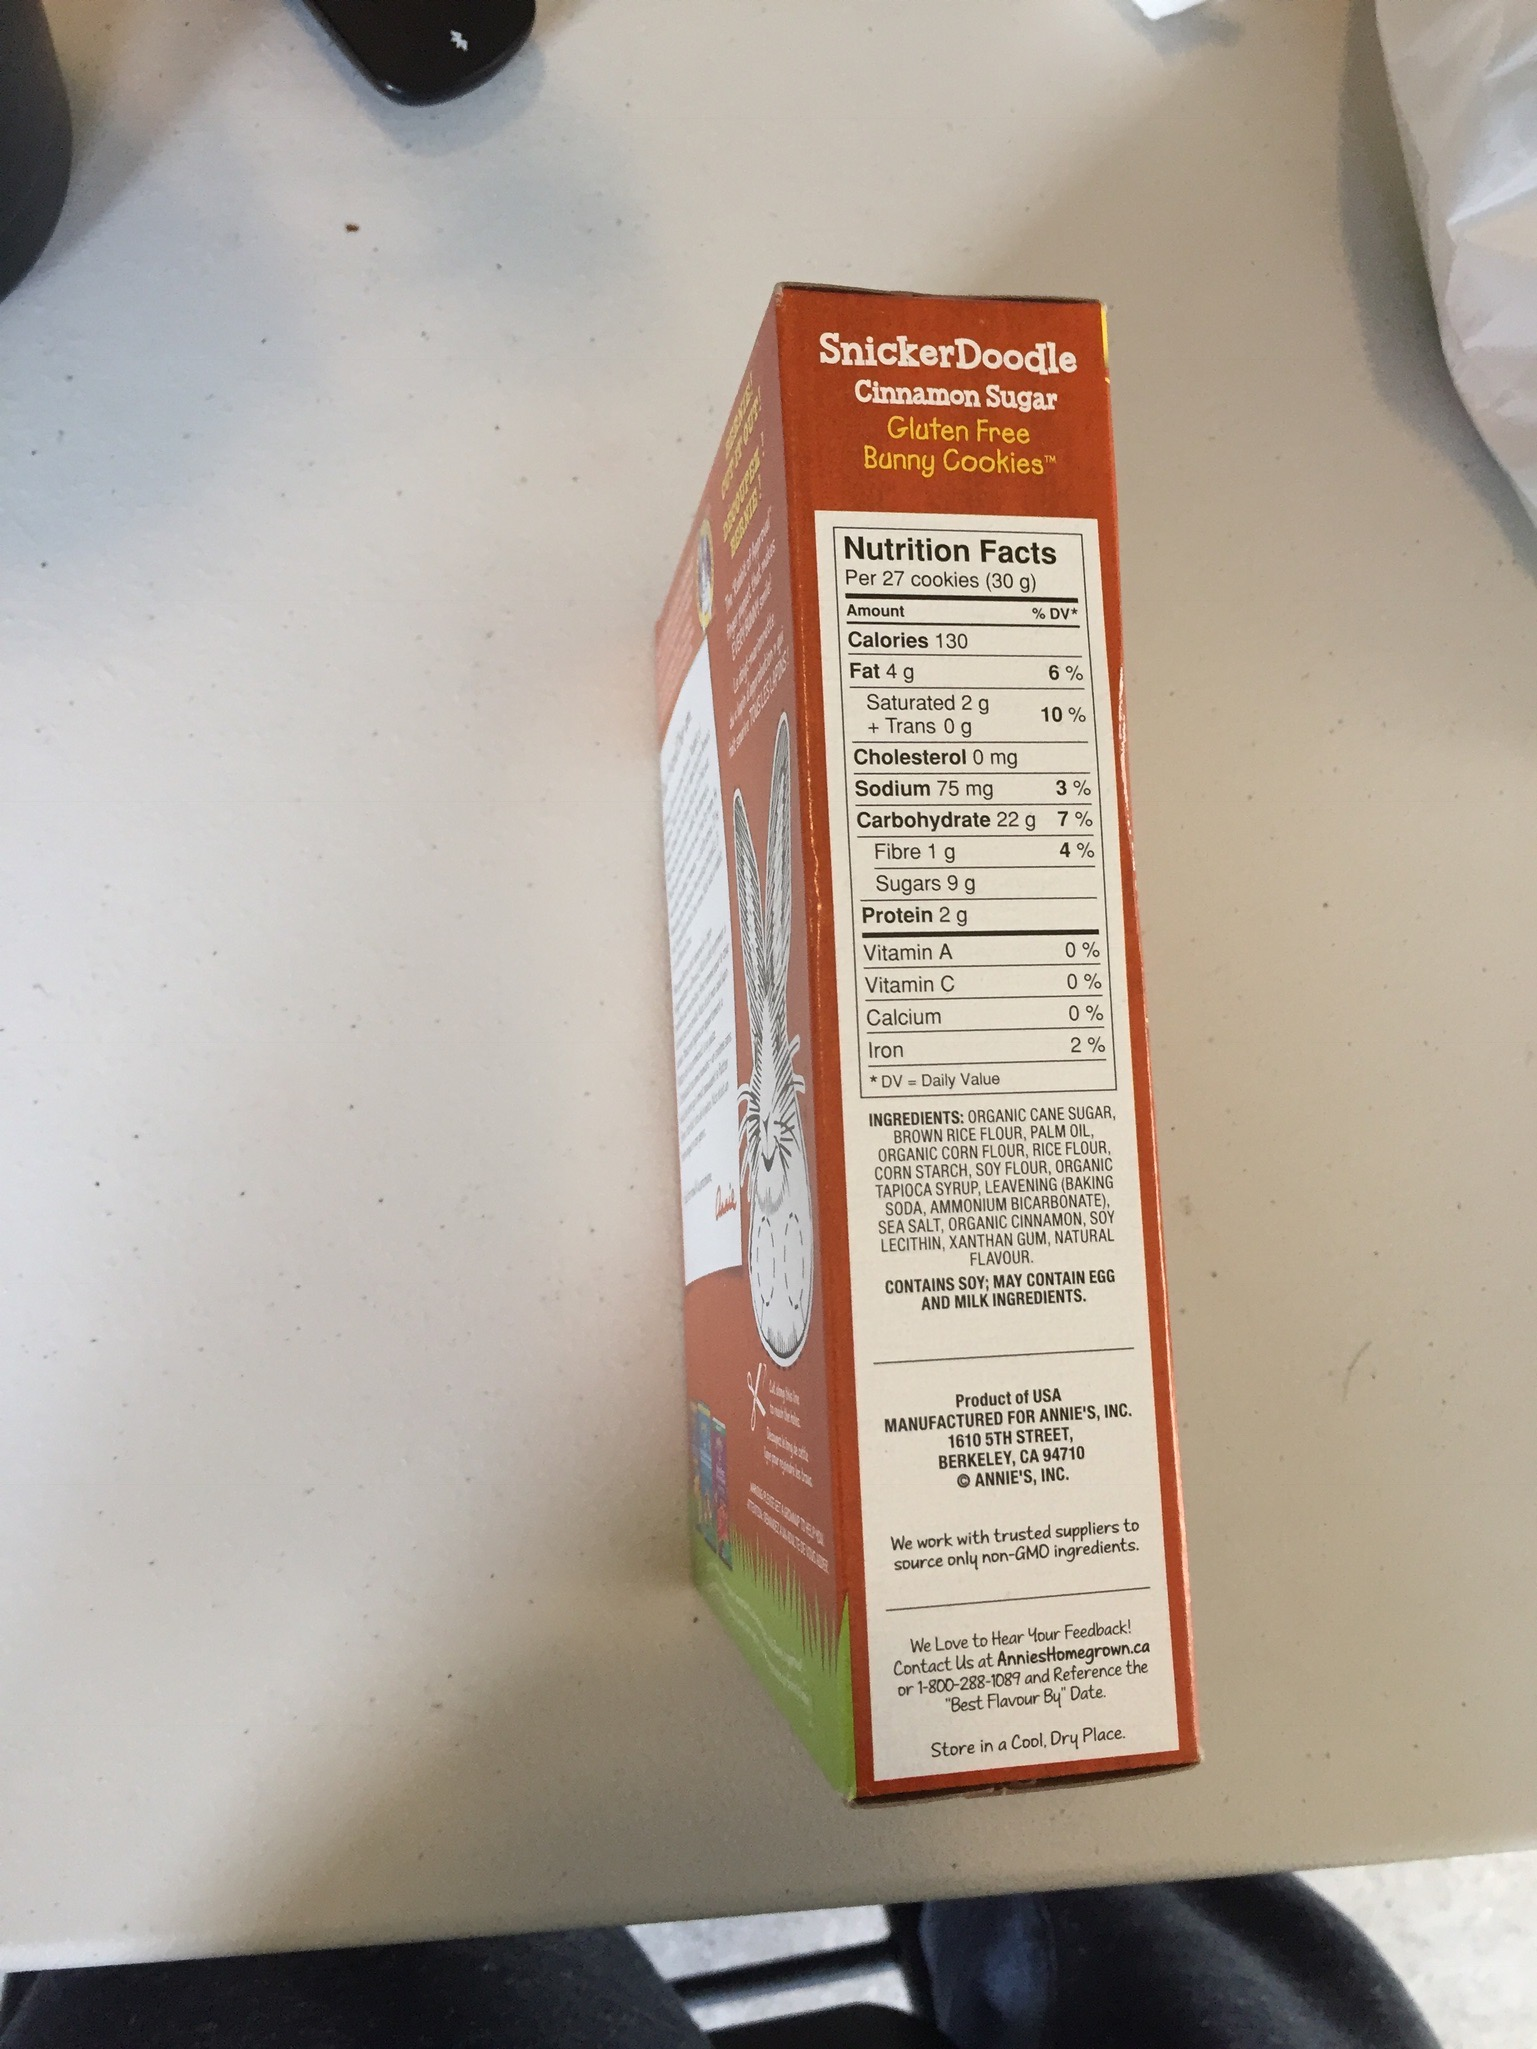annies_snickerdoodle_cinnamon_sugar: (799, 295, 1140, 1770)
